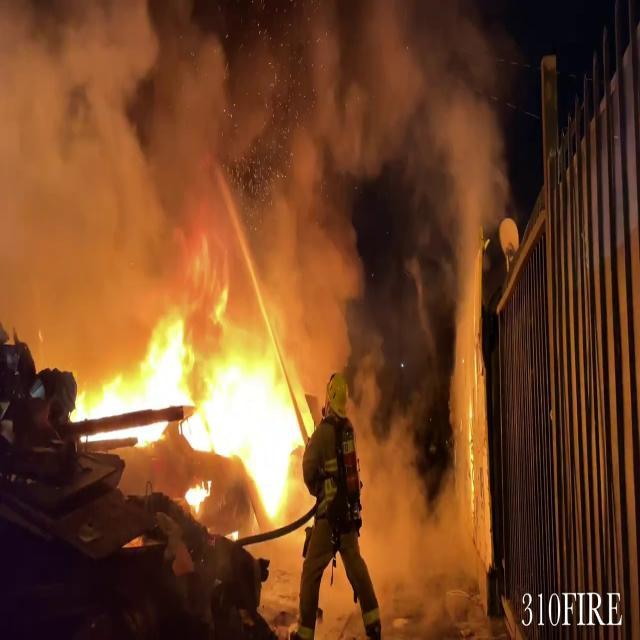Fire: (73, 282, 320, 525)
Smoke: (1, 1, 508, 332)
